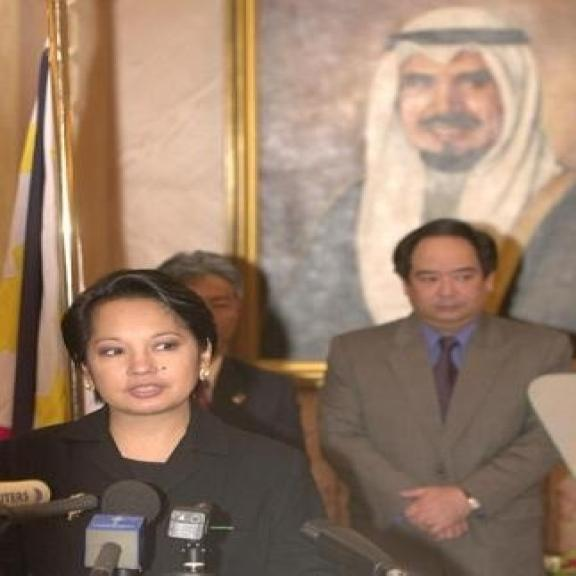face: (78, 293, 216, 416), (394, 47, 522, 169), (398, 236, 498, 330)
